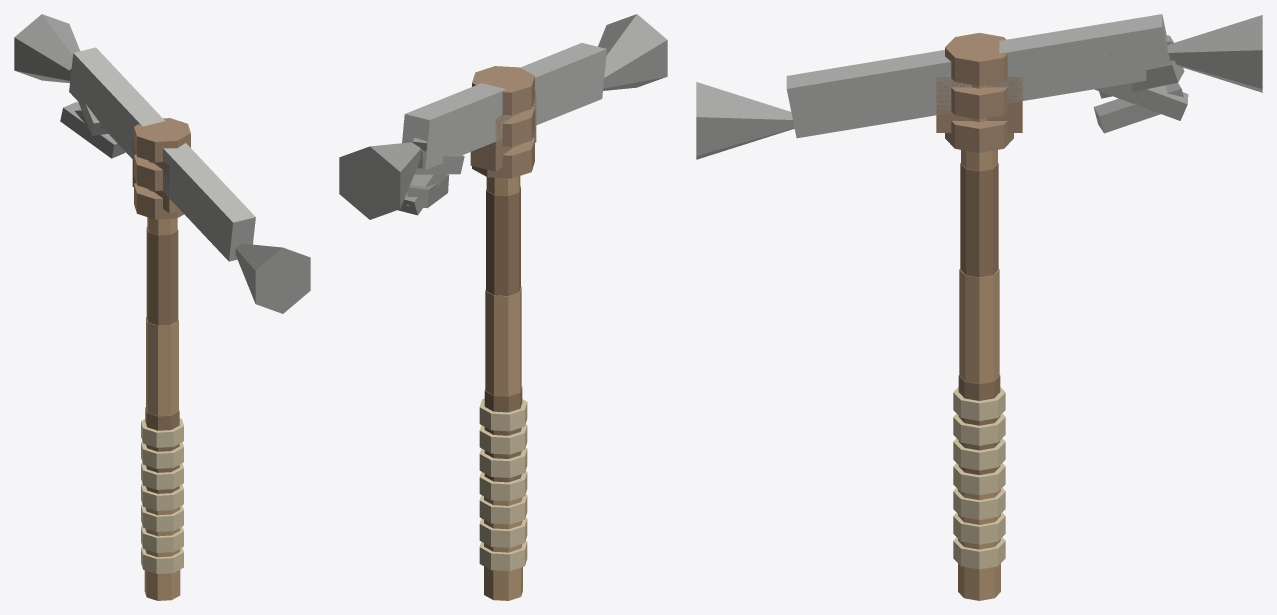
Rendered from stone_pickaxe.glb.
3 renders of one model, left to right at view 1: azimuth 30°, elevation 25°; view 2: azimuth 150°, elevation 25°; view 3: azimuth 270°, elevation 25°, orthographic. The views are drawn at different scales.
Parts seen in each view (by area): view 1: stone_pickaxe; view 2: stone_pickaxe; view 3: stone_pickaxe.
Boxes of the visible parts, box(x1,y1,x2,y2) form: stone_pickaxe: box(14, 14, 310, 600); stone_pickaxe: box(339, 14, 667, 600); stone_pickaxe: box(696, 14, 1262, 600).
Size of the model in its own units: 0.1212 by 1.03 by 0.92.
